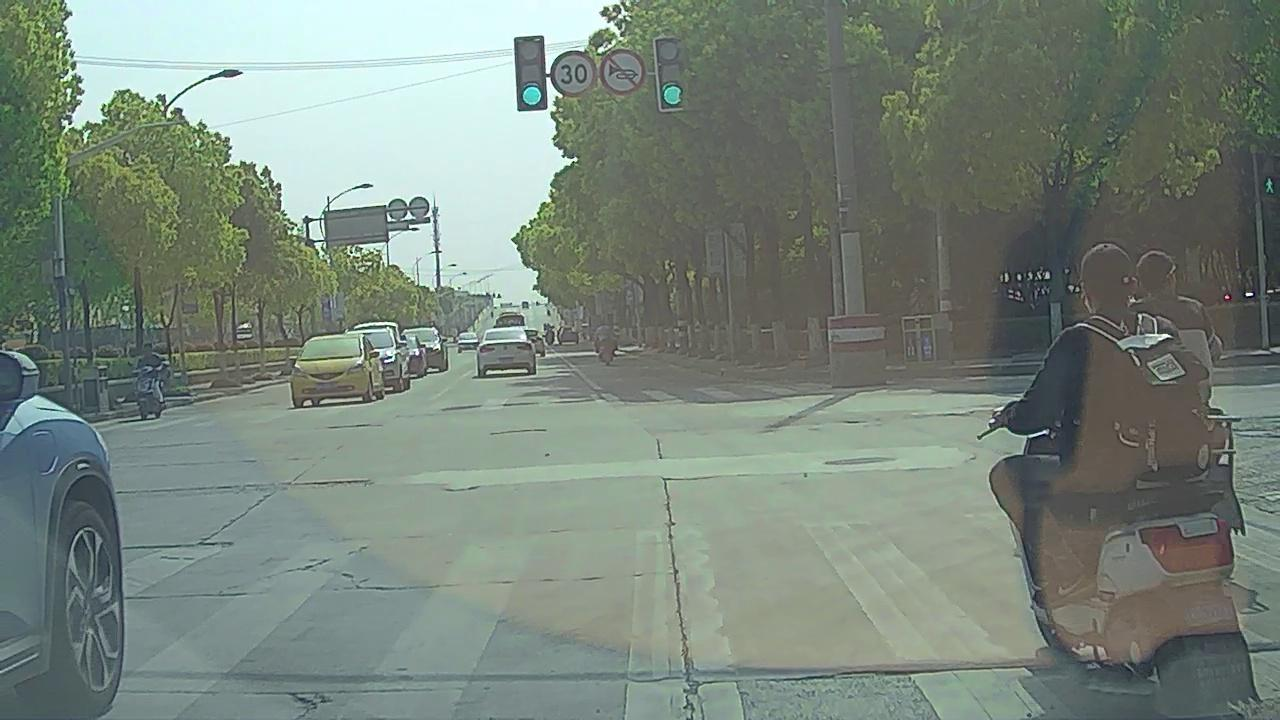traffic_light: (515, 37, 546, 110), (655, 40, 686, 109)
